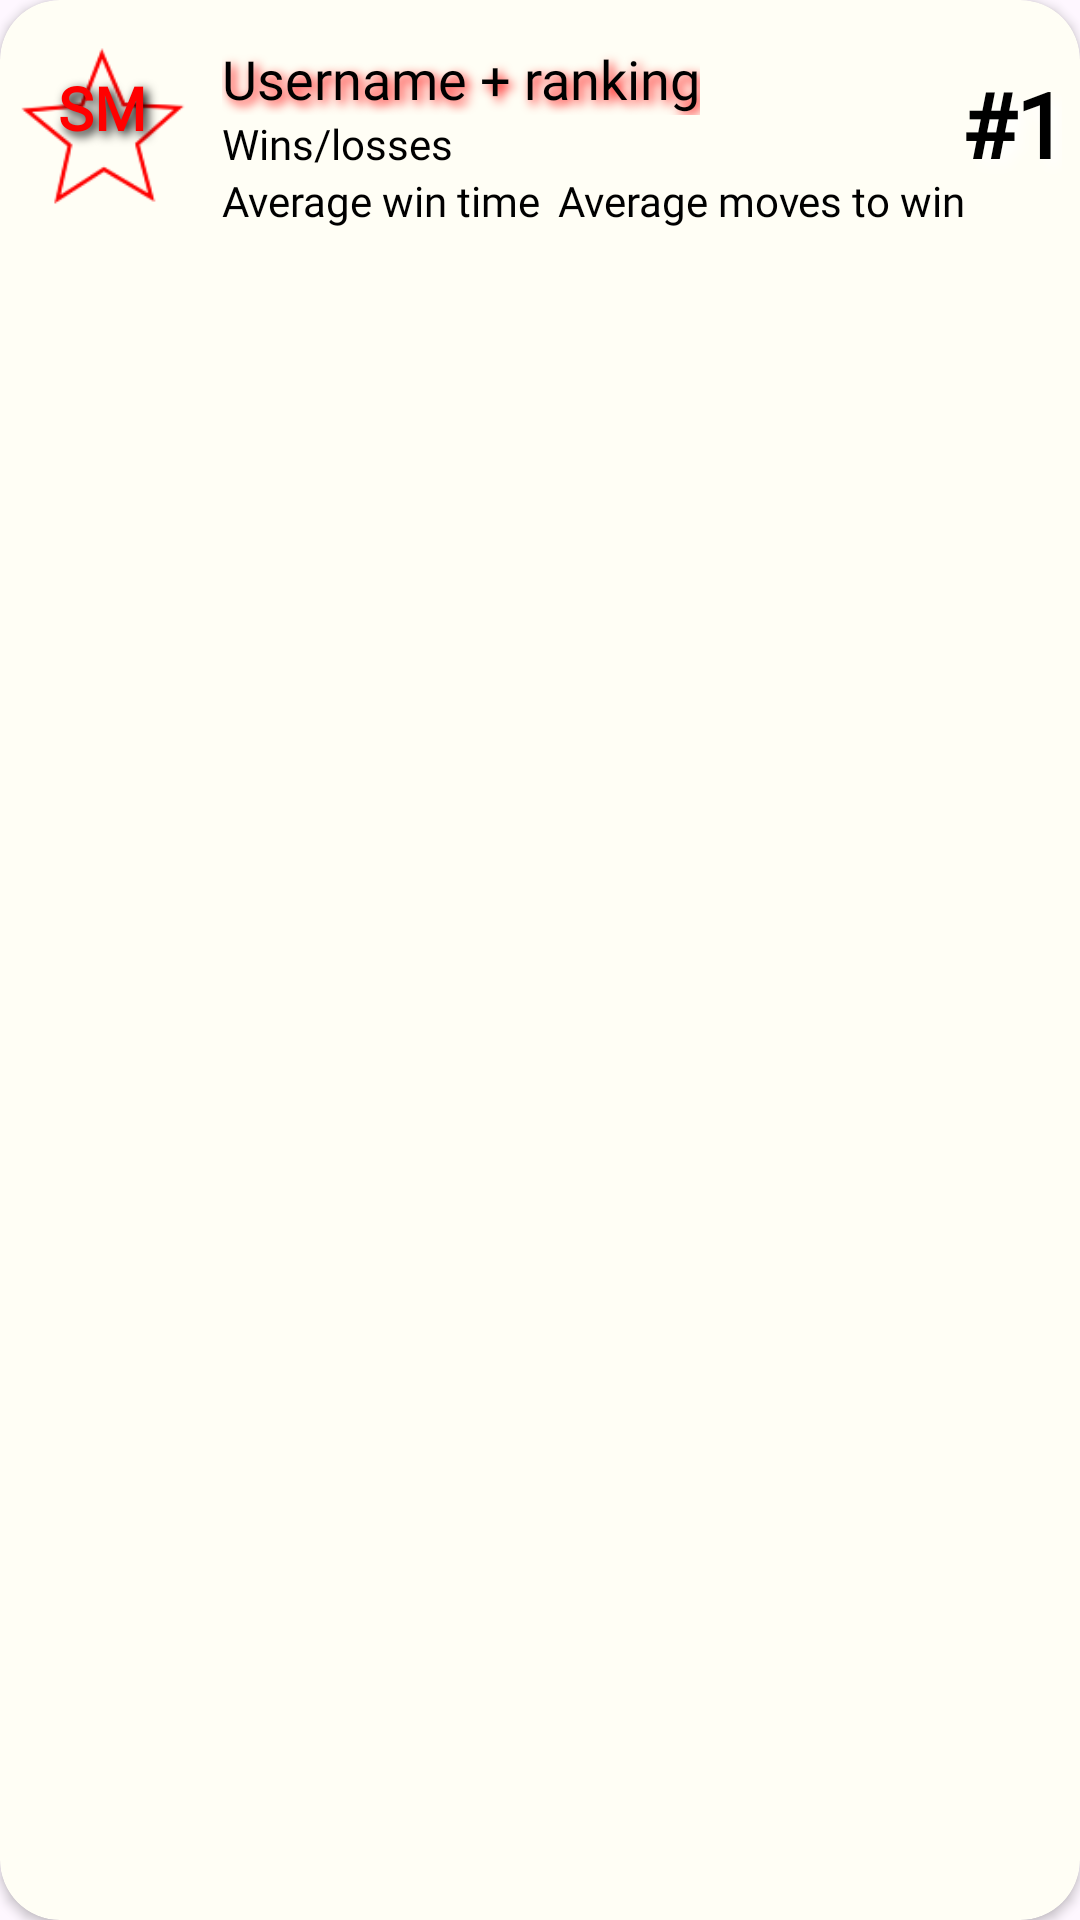

Point at icon controls on the screen. Image size 1080*1920, points as [x,y].
star: [103,126]
